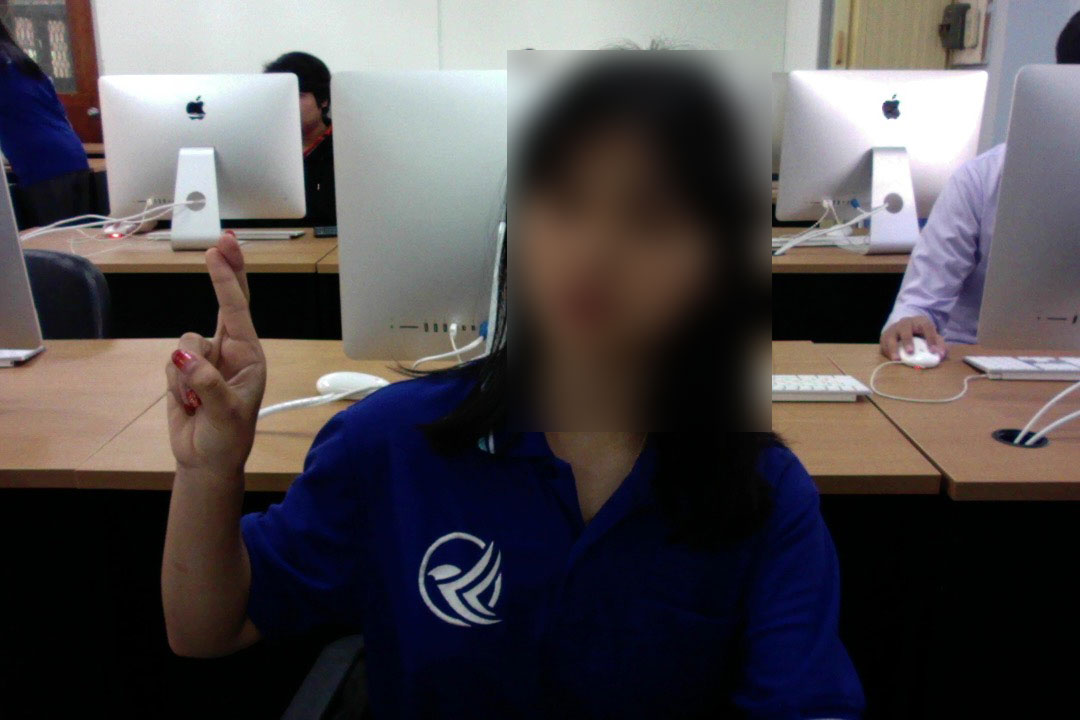rao: (160, 224, 277, 477)
